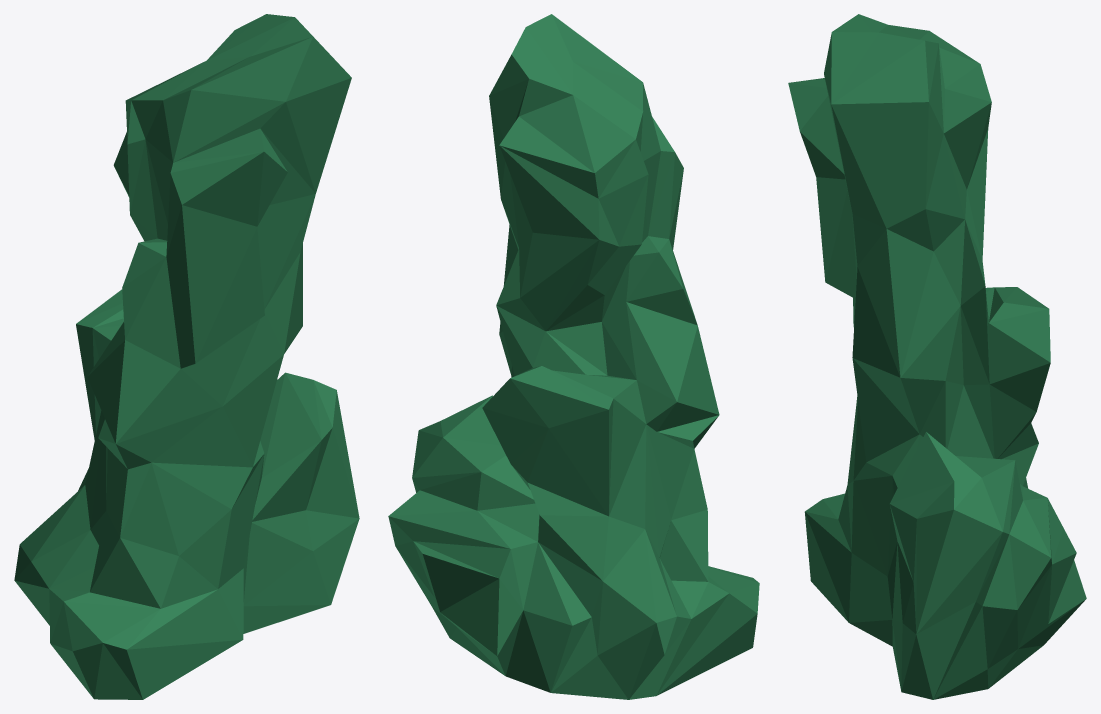
Rendered from SM_0014_COL.fbx.
The picture shows the model from 3 angles, left to right: view 1: azimuth 30°, elevation 25°; view 2: azimuth 150°, elevation 25°; view 3: azimuth 270°, elevation 25°; orthographic projection. The views are drawn at different scales.
Parts seen in each view (by area): view 1: SM_0014_COL; view 2: SM_0014_COL; view 3: SM_0014_COL.
Part boxes in pixels (x1=…): SM_0014_COL: x1=14, y1=14, x2=359, y2=699; SM_0014_COL: x1=388, y1=14, x2=759, y2=699; SM_0014_COL: x1=788, y1=14, x2=1086, y2=699.
Size of the model in its own units: 2.23 by 4.19 by 1.75.
